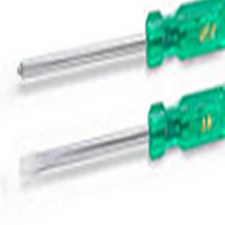Screwdriver: (21, 84, 225, 182), (10, 6, 225, 80)
